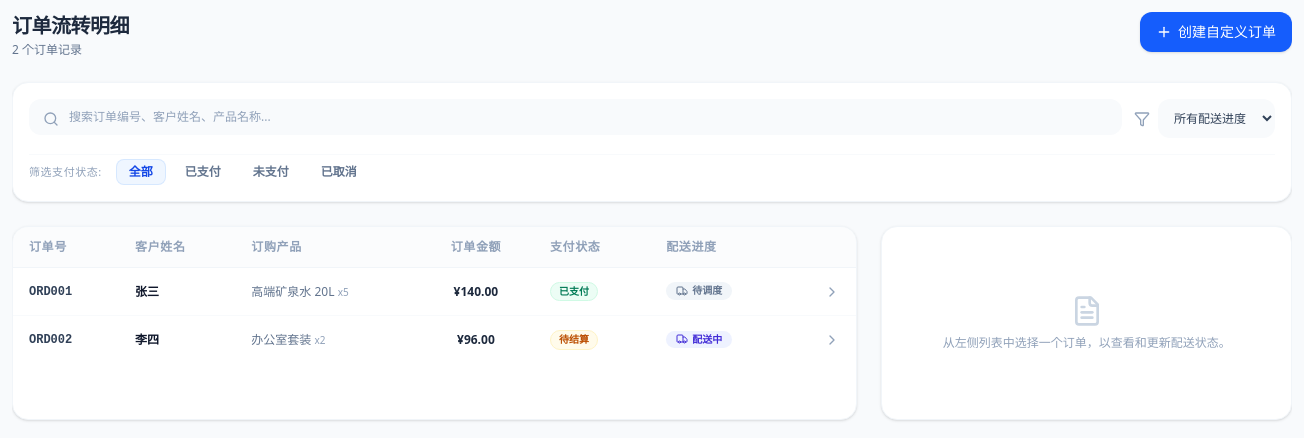
it: OrdersTab Component › filters orders by customer name search
Type "张三" into the field with placeholder "搜索订单编号、客户姓名、产品名称..." at point(576, 117), box 29,99 -> 1122,135
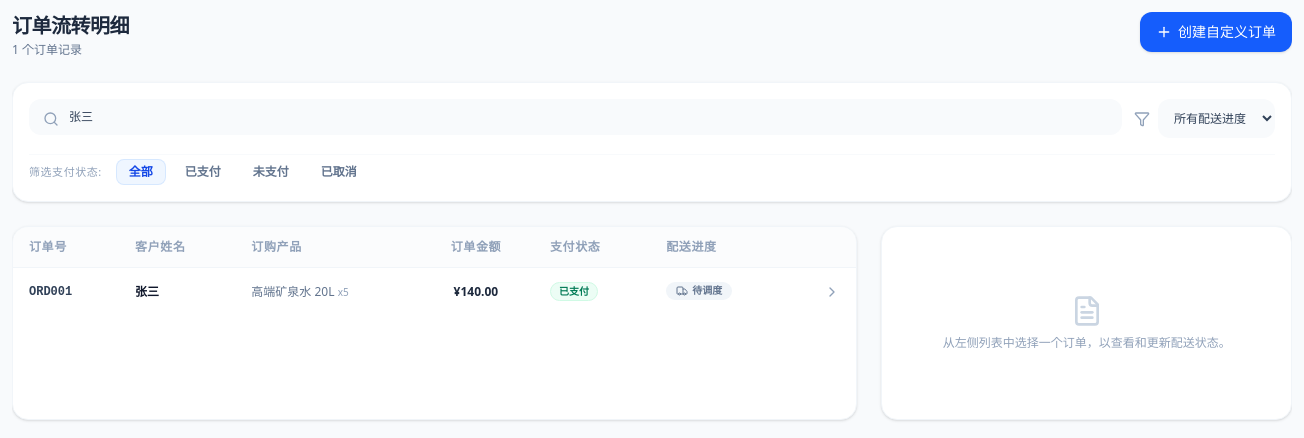
Expected: the text "张三" is shown, 119,268 -> 235,315
Expected: the text "李四" is gone
